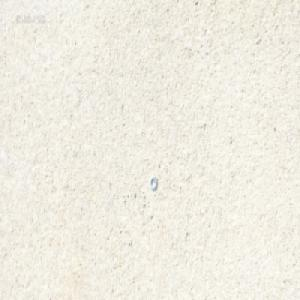Washer: (149, 175, 157, 190)
